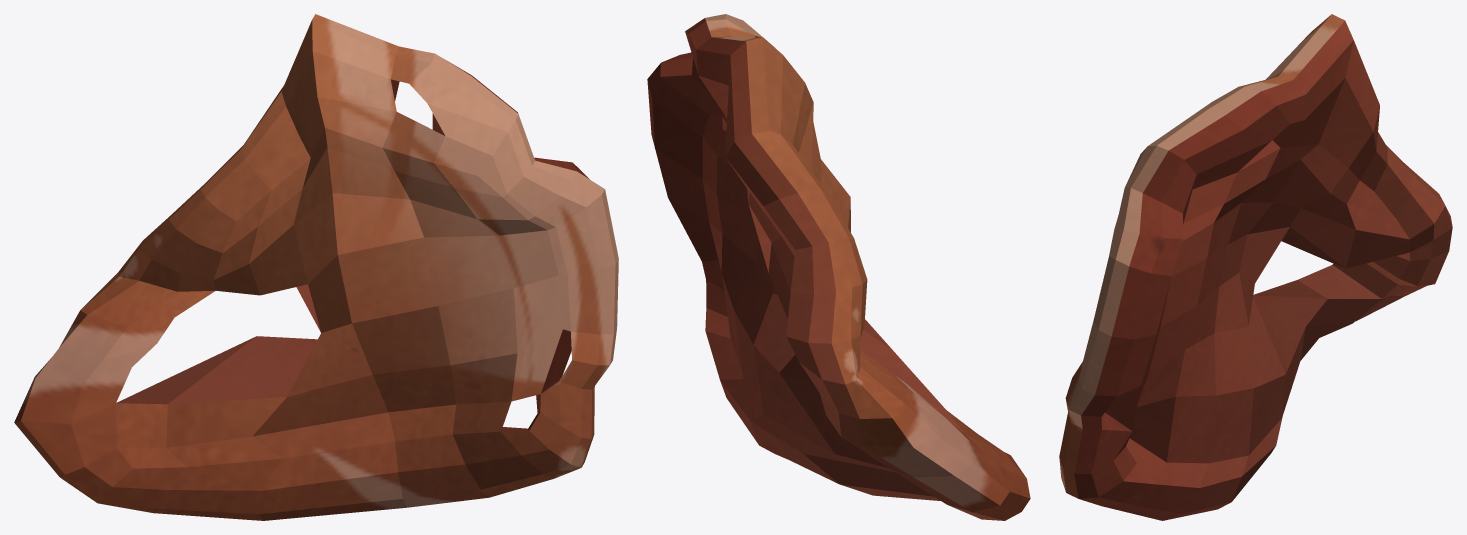
Rendered from Copper.fbx.
3 views of the same model, side by side, from view 1: azimuth 30°, elevation 25°; view 2: azimuth 150°, elevation 25°; view 3: azimuth 270°, elevation 25° (orthographic). The views are drawn at different scales.
Parts seen in each view (by area): view 1: Copper; view 2: Copper; view 3: Copper.
Part boxes in pixels (x1=…): Copper: x1=14, y1=14, x2=618, y2=520; Copper: x1=647, y1=14, x2=1030, y2=520; Copper: x1=1059, y1=14, x2=1452, y2=520.
Size of the model in its own units: 95.15 by 88.16 by 66.38.
